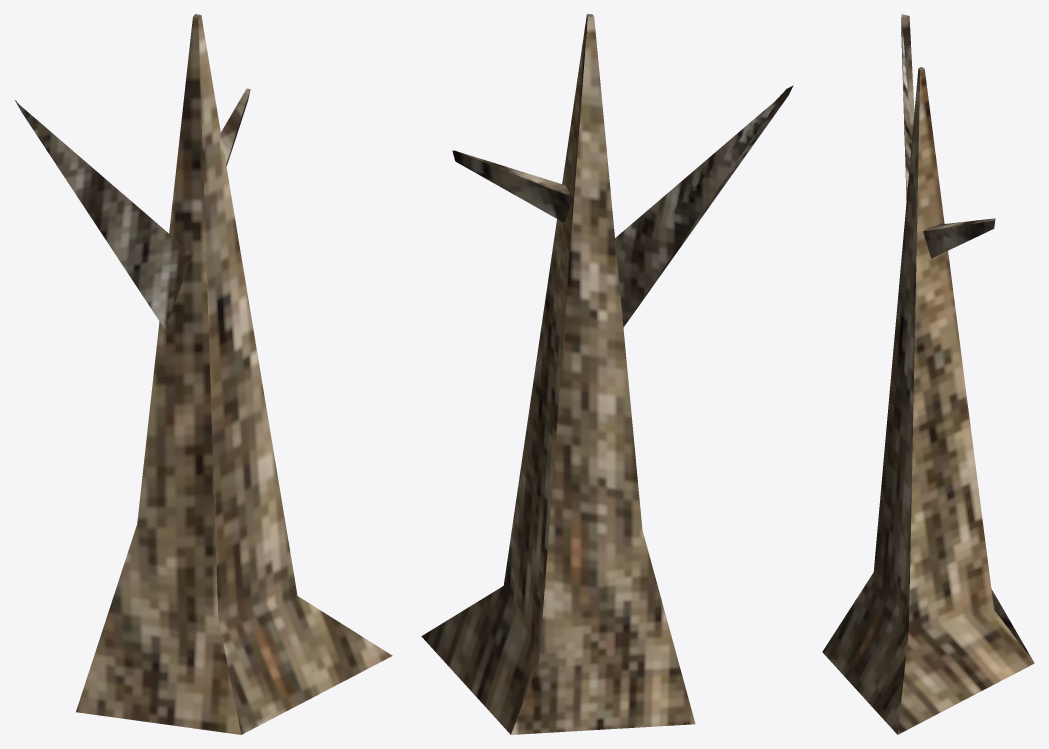
File: Tree_1.glb
3 renders of one model, left to right at view 1: azimuth 30°, elevation 25°; view 2: azimuth 150°, elevation 25°; view 3: azimuth 270°, elevation 25°, orthographic. The views are drawn at different scales.
Visible parts, largest first — view 1: tree branch2; view 2: tree branch2; view 3: tree branch2.
Part boxes in pixels (left/top/right/bottom): tree branch2: left=15, top=14, right=392, bottom=734; tree branch2: left=421, top=14, right=793, bottom=734; tree branch2: left=822, top=14, right=1034, bottom=734.
Bounding box in the file's own units: 1.9 × 3.27 × 1.07.
Materials: 1 (1 with a texture image).
